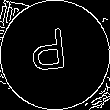P_S: (34, 28, 76, 82)
